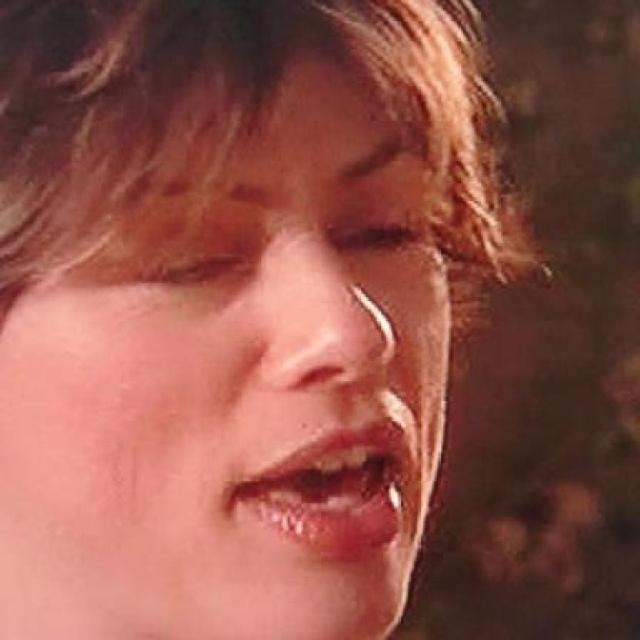drowsy: (142, 240, 250, 294), (336, 219, 412, 256)
